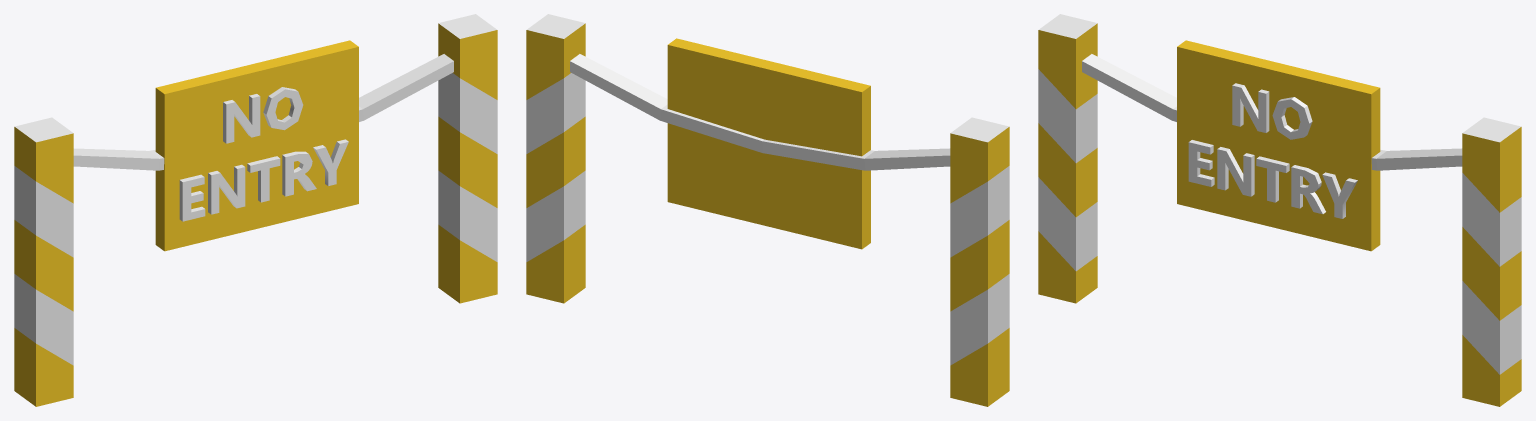
Rendered from Noentry.fbx.
3 views of the same model, side by side, from view 1: azimuth 30°, elevation 25°; view 2: azimuth 150°, elevation 25°; view 3: azimuth 330°, elevation 25° (orthographic).
Parts seen in each view (by area): view 1: Noentry; view 2: Noentry; view 3: Noentry.
Part boxes in pixels (left/top/right/bottom): Noentry: left=14, top=14, right=497, bottom=406; Noentry: left=526, top=14, right=1009, bottom=406; Noentry: left=1038, top=14, right=1521, bottom=406.
Size of the model in its own units: 2.04 by 0.166 by 1.17.
